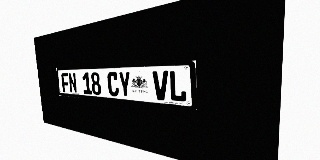1: (82, 72, 92, 94)
8: (90, 72, 101, 95)
C: (107, 72, 119, 97)
F: (61, 73, 70, 93)
L: (169, 70, 187, 102)
N: (68, 73, 77, 93)
V: (152, 71, 169, 101)
Y: (118, 71, 131, 98)
